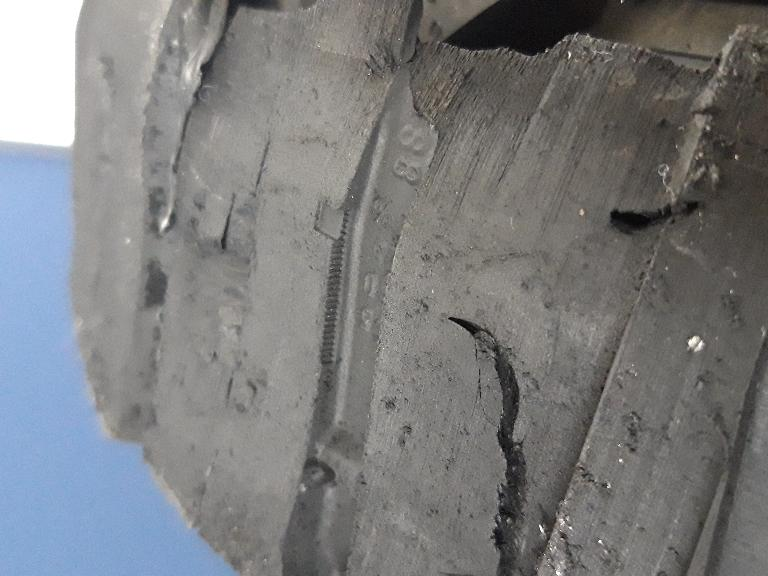temoin:25: (306, 193, 357, 276)
